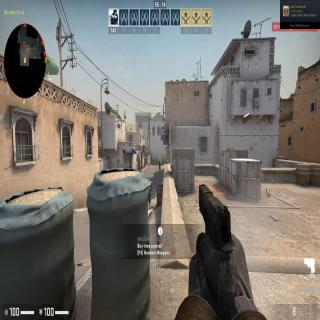CT-Body: (148, 178, 151, 206), (159, 161, 161, 169)
CT-Head: (148, 179, 150, 182), (159, 162, 160, 164)
